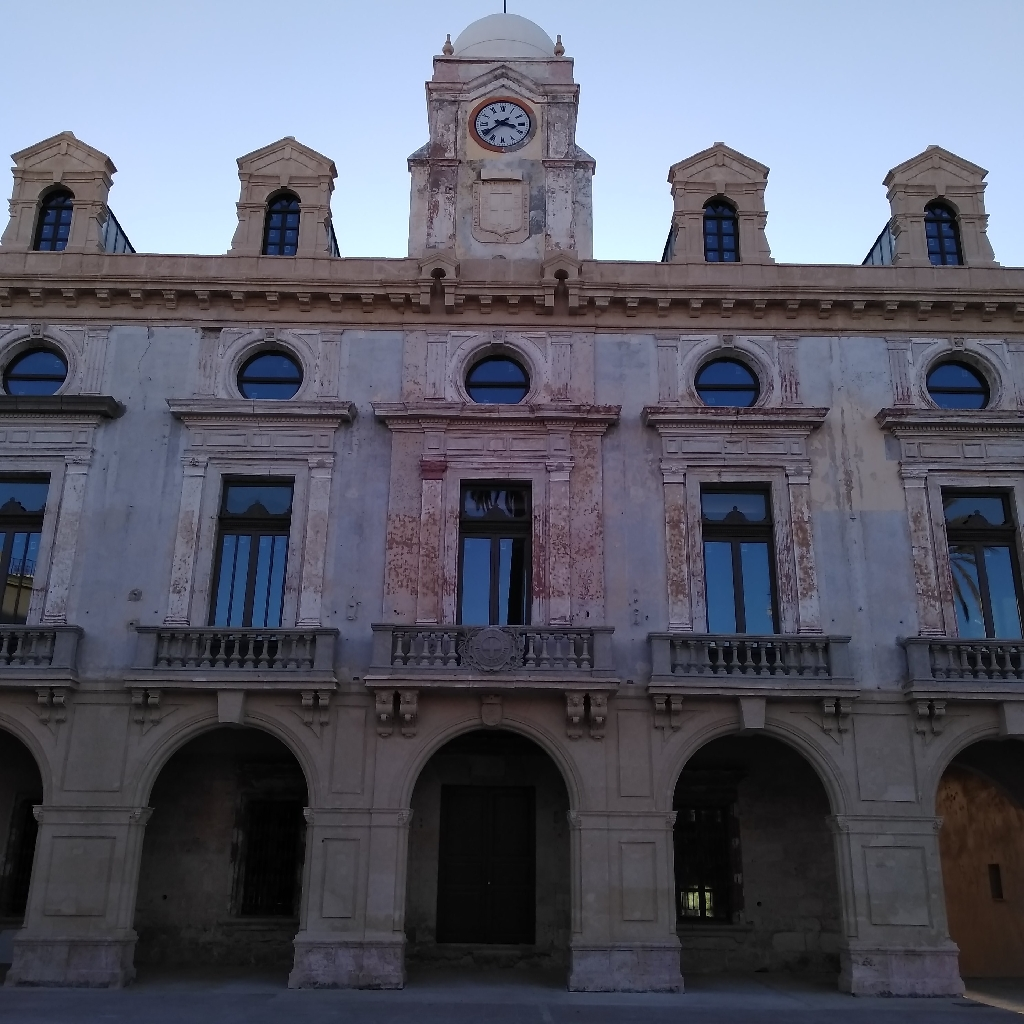arco-medio-punto: (131, 713, 320, 835), (666, 720, 847, 846), (398, 718, 583, 839), (926, 725, 1024, 845)
fronton: (666, 139, 771, 190), (880, 142, 990, 188), (13, 131, 111, 180), (235, 136, 335, 180)
ojo-de-buey: (221, 330, 320, 402), (915, 337, 1007, 414), (684, 334, 779, 407), (451, 330, 540, 404), (1, 323, 84, 395)
vano-adintelado: (164, 446, 340, 626), (410, 458, 580, 627), (681, 460, 804, 635), (927, 465, 1024, 640)
